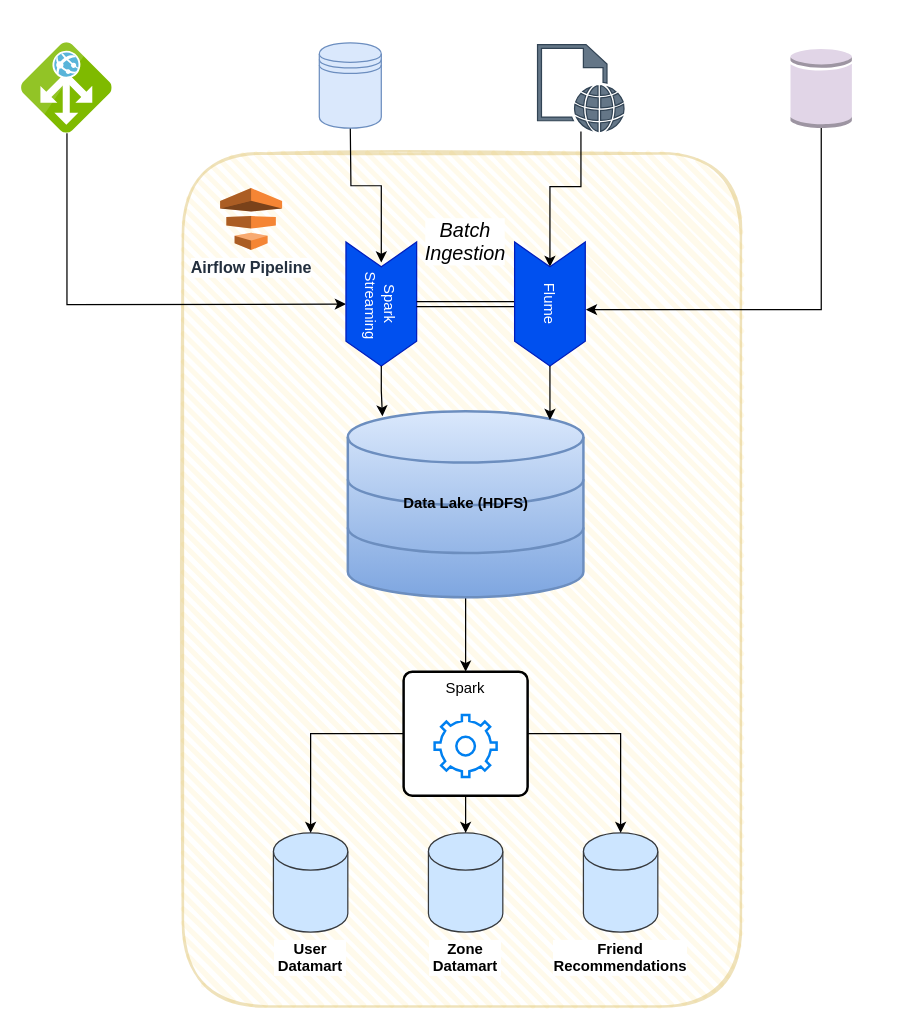
The diagram is 900 pixels wide and 1029 high, and some of its shapes have lost their labels. The shapes that lost their labels are listed below. From the top down, each one's centre as x and y in pixels, then its label:
pixel 66 87: Social Media
pixel 349 85: CRM
pixel 580 87: Website Logs
pixel 820 87: External Dataset
